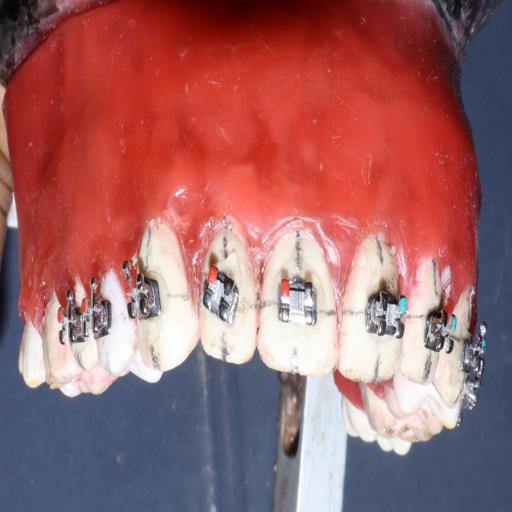incorrect_brace: (198, 222, 259, 364), (273, 268, 318, 327), (202, 264, 239, 328)
